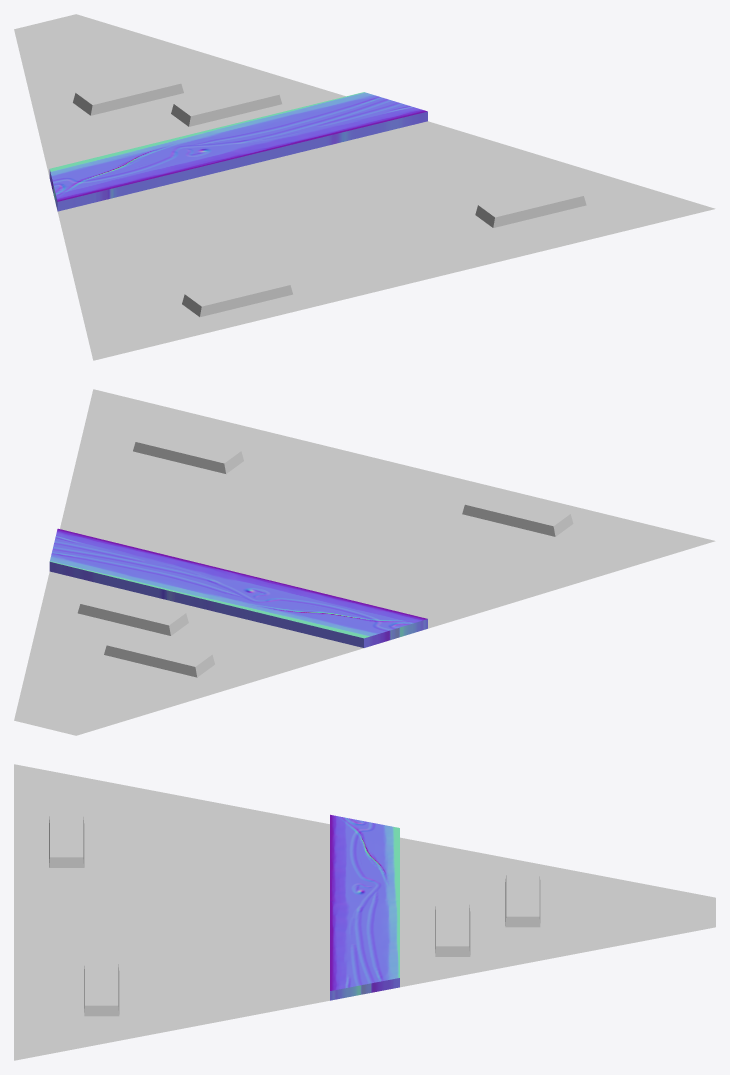
File: SM_RoofWall_A.fbx
The picture shows the model from 3 angles, top to bottom: view 1: azimuth 30°, elevation 25°; view 2: azimuth 150°, elevation 25°; view 3: azimuth 270°, elevation 25°; orthographic projection. The views are drawn at different scales.
Parts seen in each view (by area): view 1: SM_RoofWall_A; view 2: SM_RoofWall_A; view 3: SM_RoofWall_A.
Part boxes in pixels (x1,y1,x2,y2): SM_RoofWall_A: [14, 14, 715, 360]; SM_RoofWall_A: [14, 389, 715, 735]; SM_RoofWall_A: [14, 764, 715, 1060].
Bounding box in the file's own units: 200 × 3 × 200.
